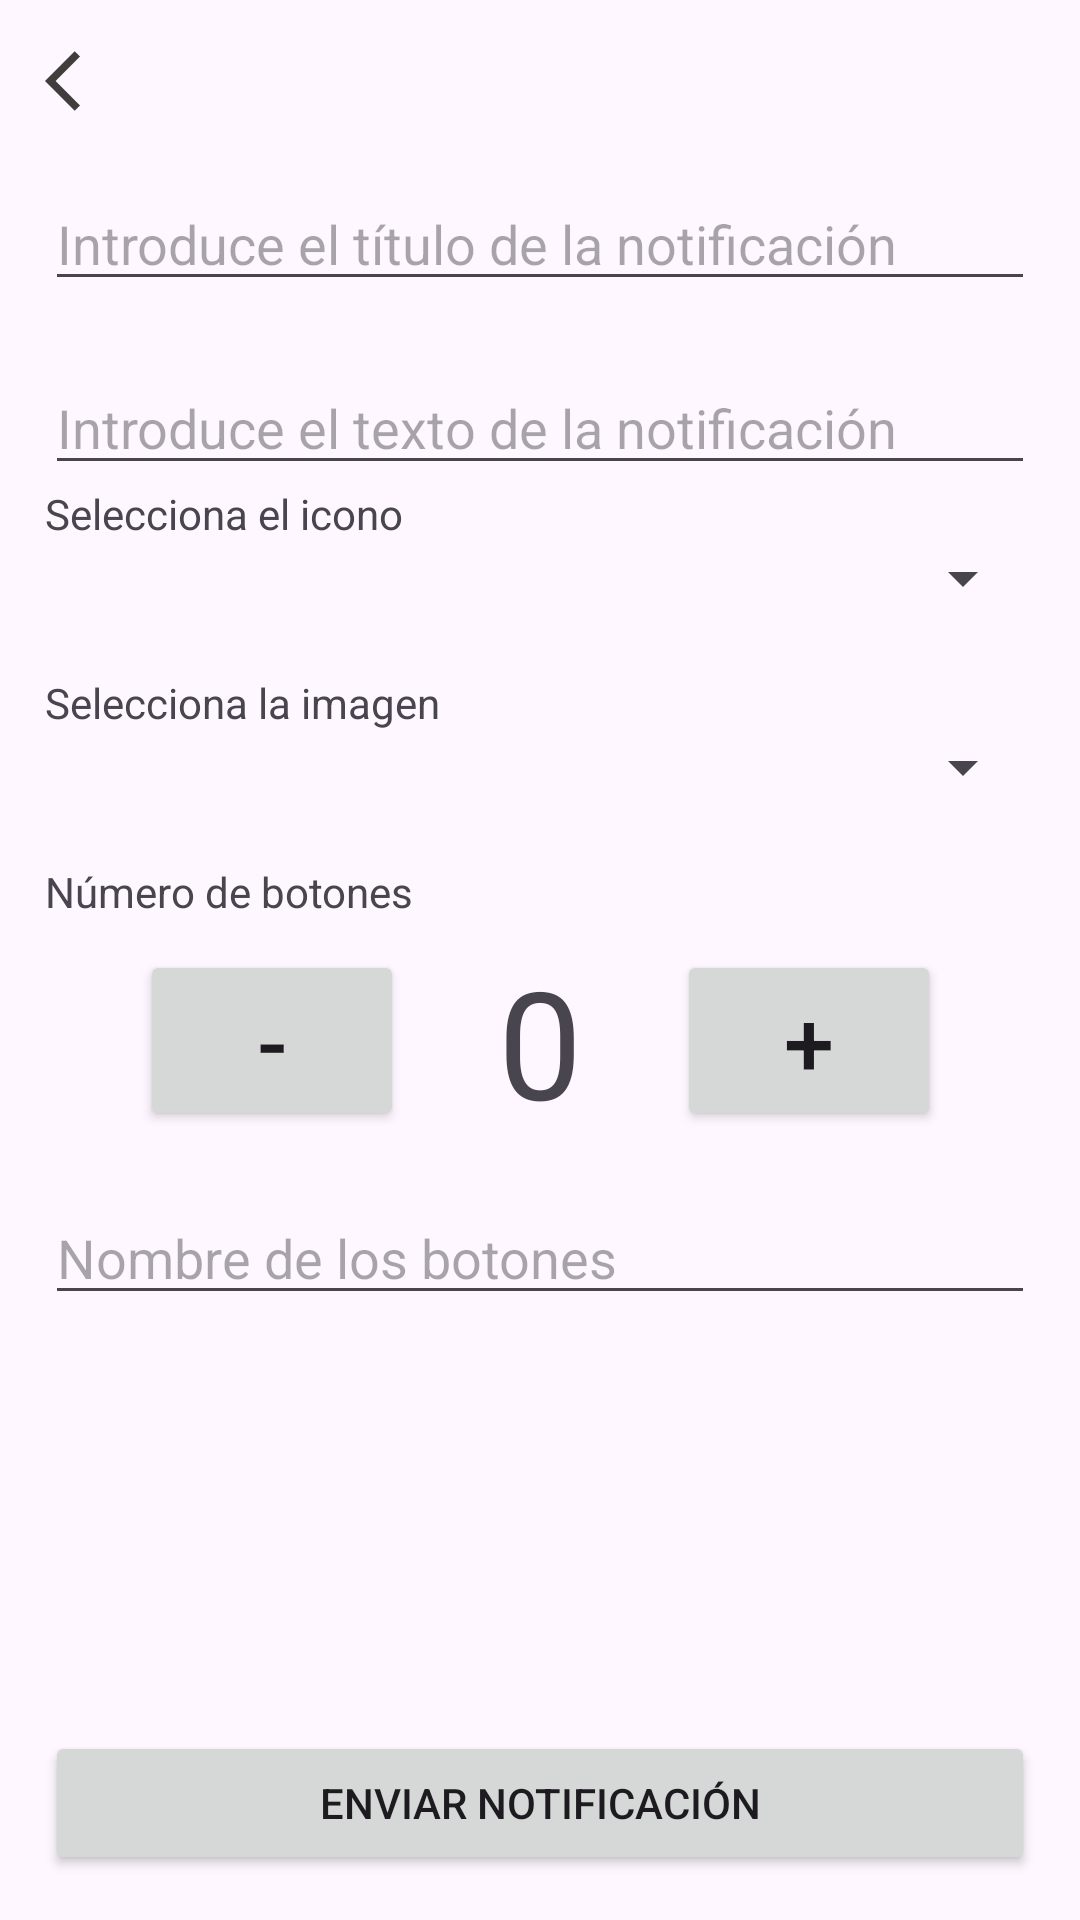

Icon bounding boxes for this 1080px x 1920px phone screenshot, format (x1, y1, x2, y2):
arrow back: (45, 51, 80, 111)
